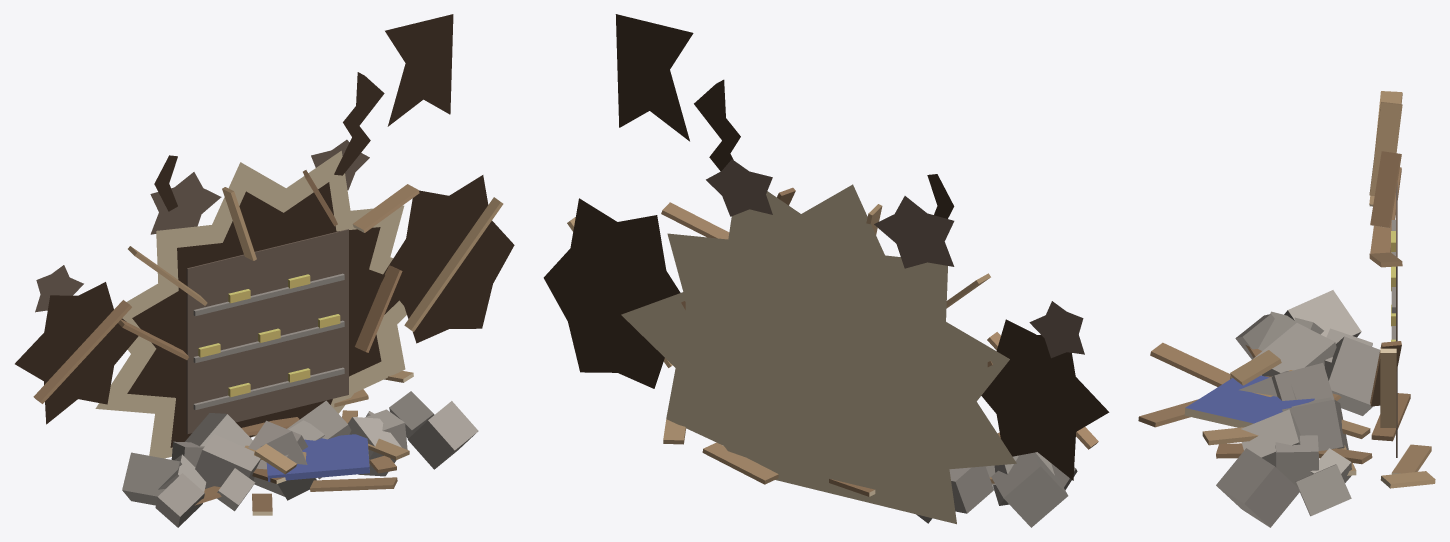
File: bank_ruin.glb
3 renders of one model, left to right at view 1: azimuth 30°, elevation 25°; view 2: azimuth 150°, elevation 25°; view 3: azimuth 270°, elevation 25°, orthographic. The views are drawn at different scales.
Parts seen in each view (by area): view 1: bank_ruin; view 2: bank_ruin; view 3: bank_ruin.
Boxes of the visible parts, <box> form: bank_ruin: <box>15,14,514,527</box>; bank_ruin: <box>543,14,1109,527</box>; bank_ruin: <box>1138,91,1435,527</box>.
Size of the model in its own units: 8.36 by 6.34 by 3.59.
